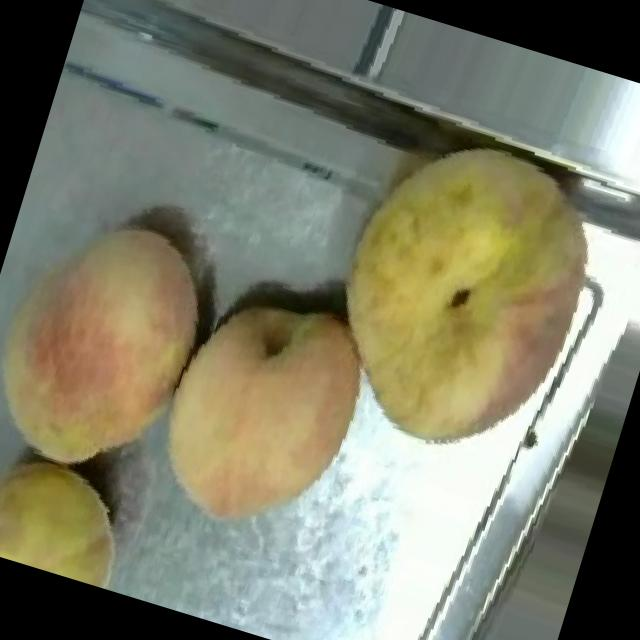Fruit: (284, 102, 640, 496), (122, 257, 404, 574), (0, 179, 240, 514), (0, 416, 164, 596)
